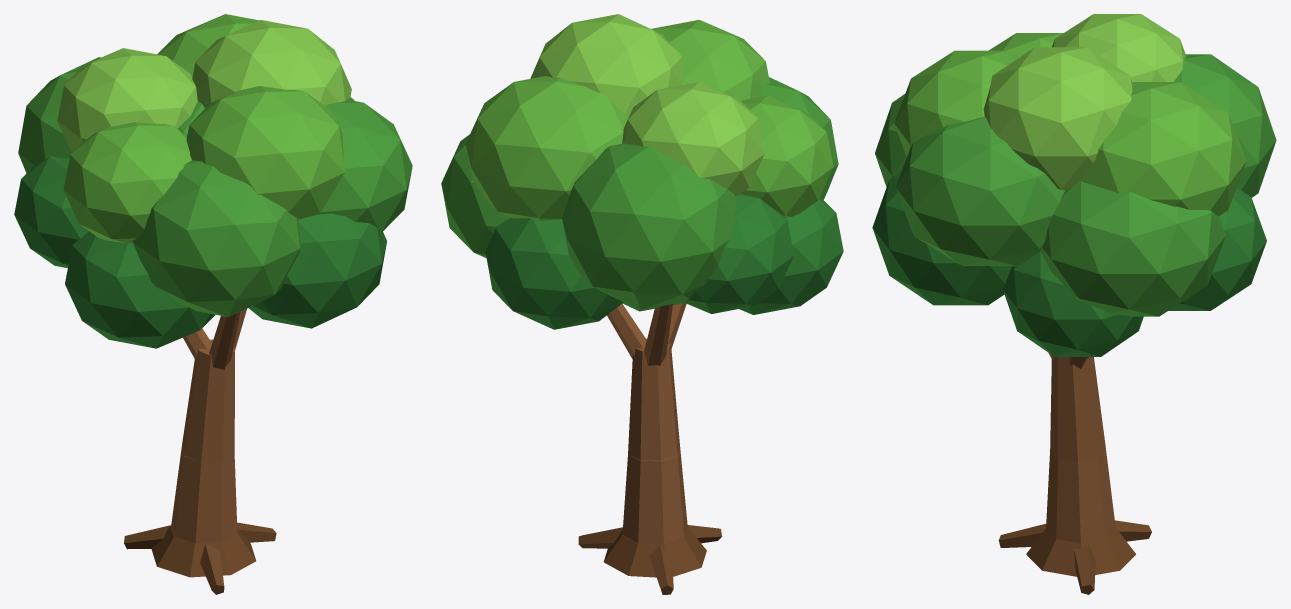
The model's file is tree-green.glb.
3 views of the same model, side by side, from view 1: azimuth 30°, elevation 25°; view 2: azimuth 150°, elevation 25°; view 3: azimuth 270°, elevation 25° (orthographic). The views are drawn at different scales.
Visible parts, largest first — view 1: Green_Crown, Green_Trunk; view 2: Green_Crown, Green_Trunk; view 3: Green_Crown, Green_Trunk.
Boxes of the visible parts, x1,y1,x2,y2 form: Green_Crown: (14,14,412,348); Green_Trunk: (124,309,276,594); Green_Crown: (441,14,843,329); Green_Trunk: (578,303,722,594); Green_Crown: (872,14,1276,356); Green_Trunk: (998,353,1151,594).
Size of the model in its own units: 2.16 by 3.28 by 2.24.
